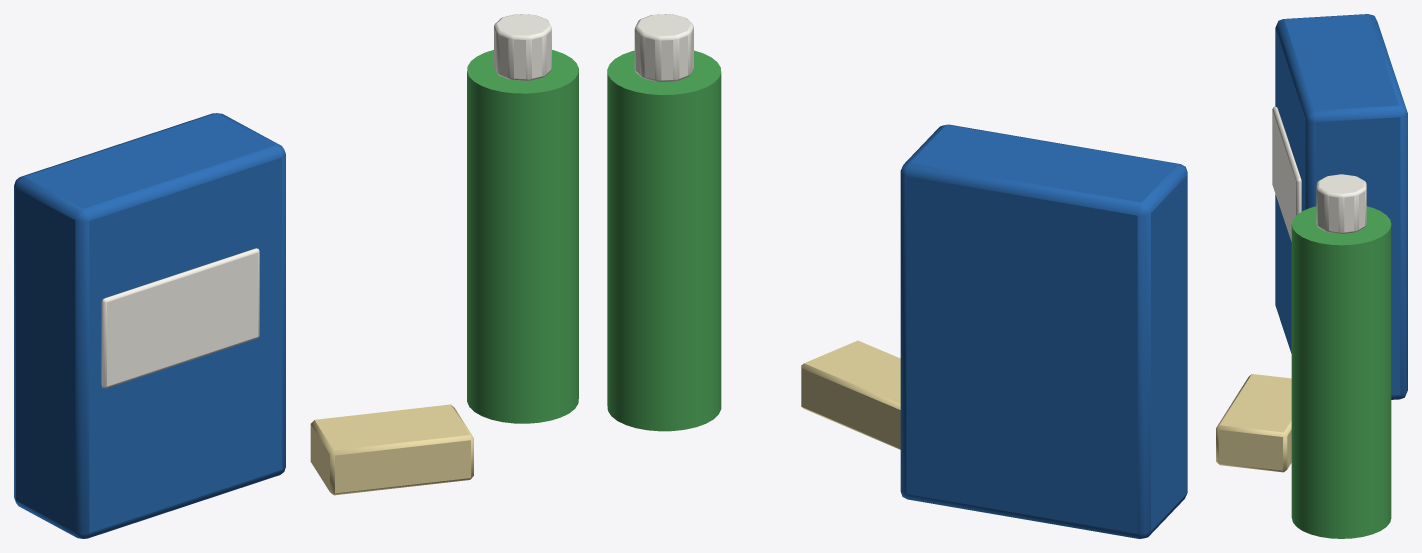
Rendered from BaoBotGiat_XaPhong.glb.
3 renders of one model, left to right at view 1: azimuth 30°, elevation 25°; view 2: azimuth 150°, elevation 25°; view 3: azimuth 270°, elevation 25°, orthographic. The views are drawn at different scales.
Parts seen in each view (by area): view 1: BaoBotGiat_XaPhong; view 2: BaoBotGiat_XaPhong; view 3: BaoBotGiat_XaPhong.
Boxes of the visible parts, x1,y1,x2,y2 form: BaoBotGiat_XaPhong: (14,14,578,538); BaoBotGiat_XaPhong: (607,14,1187,538); BaoBotGiat_XaPhong: (1216,14,1407,538).
Bounding box in the file's own units: 0.3771 × 0.25 × 0.1301.
